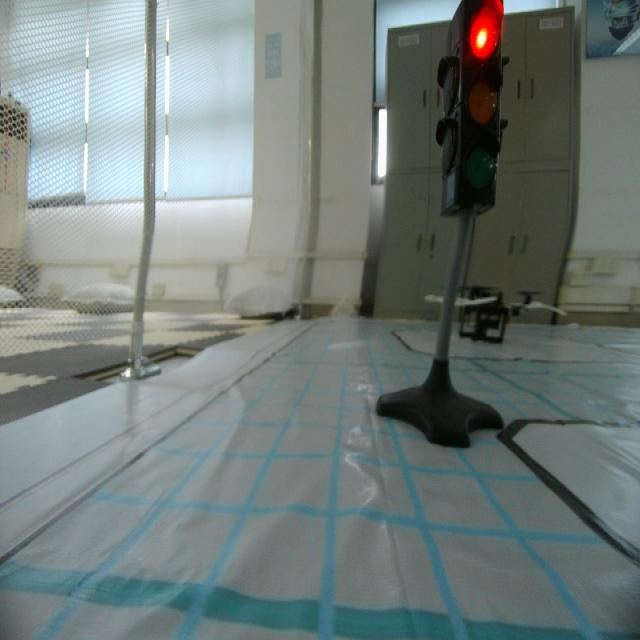red: (439, 0, 514, 229)
